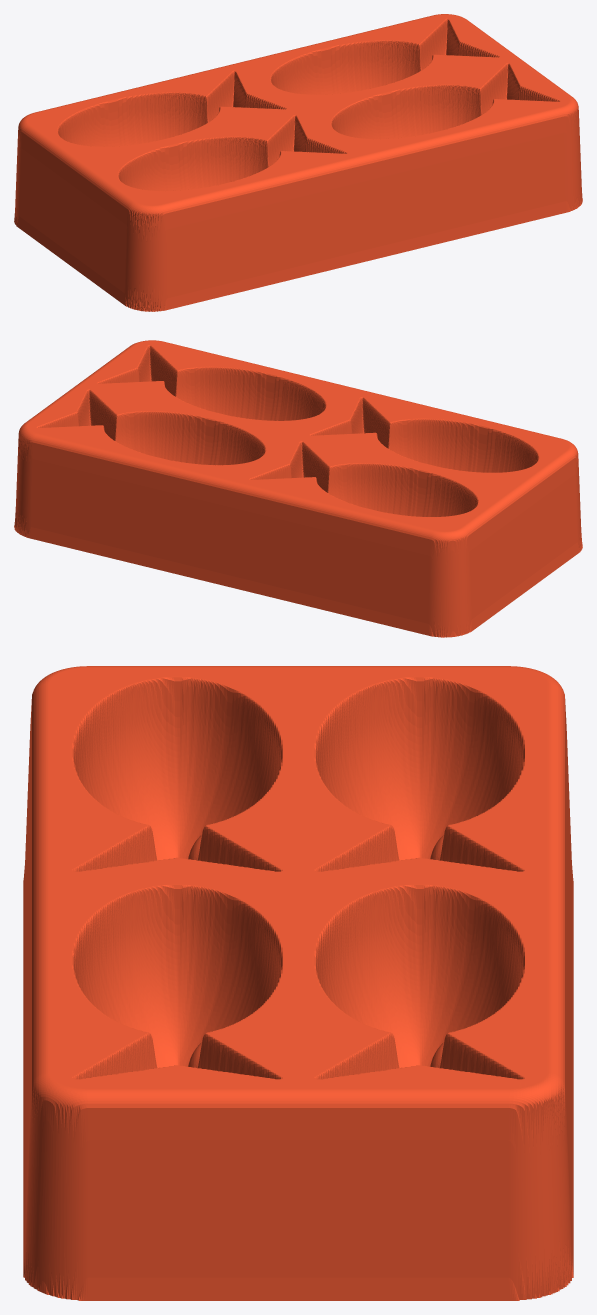
File: mold.glb
3 views of the same model, one above another, from view 1: azimuth 30°, elevation 25°; view 2: azimuth 150°, elevation 25°; view 3: azimuth 270°, elevation 25° (orthographic). The views are drawn at different scales.
Parts seen in each view (by area): view 1: geometry_0; view 2: geometry_0; view 3: geometry_0.
Boxes of the visible parts, bbox=[...] form: geometry_0: bbox=[14, 14, 582, 311]; geometry_0: bbox=[14, 340, 582, 637]; geometry_0: bbox=[23, 666, 573, 1300].
Bounding box in the file's own units: 0.1466 × 0.031 × 0.077.
